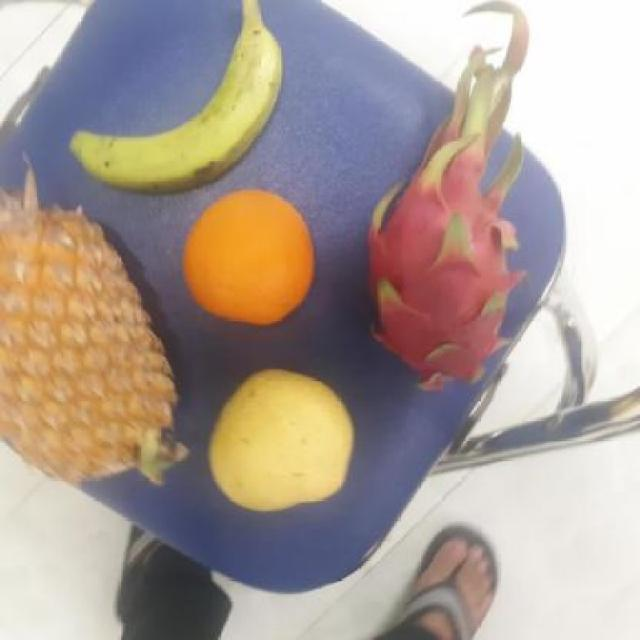banana: (80, 9, 277, 192)
dragon fruit: (352, 125, 560, 390)
guava: (200, 372, 354, 508)
pear: (202, 369, 353, 514), (179, 187, 319, 324)
